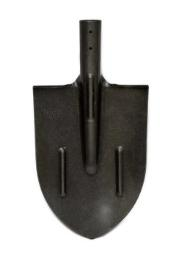PELLE: (24, 1, 172, 241)
